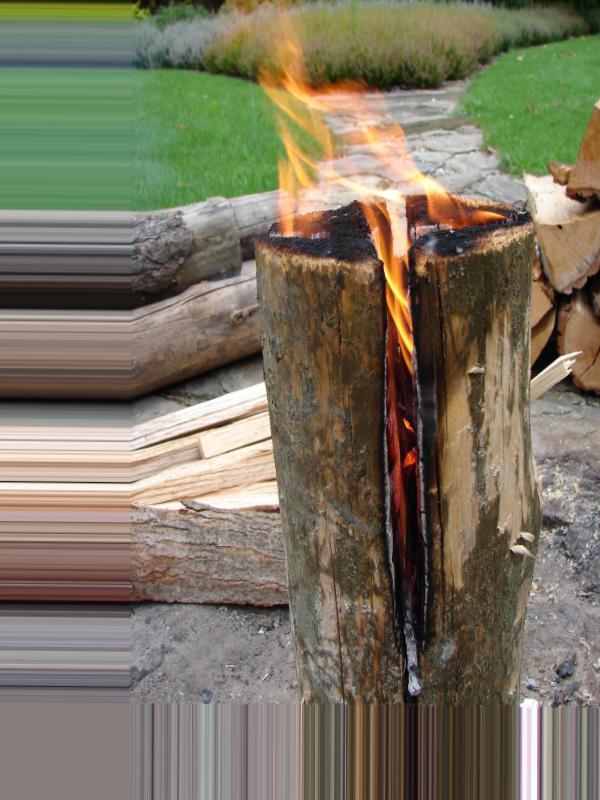fire: (250, 33, 530, 651)
